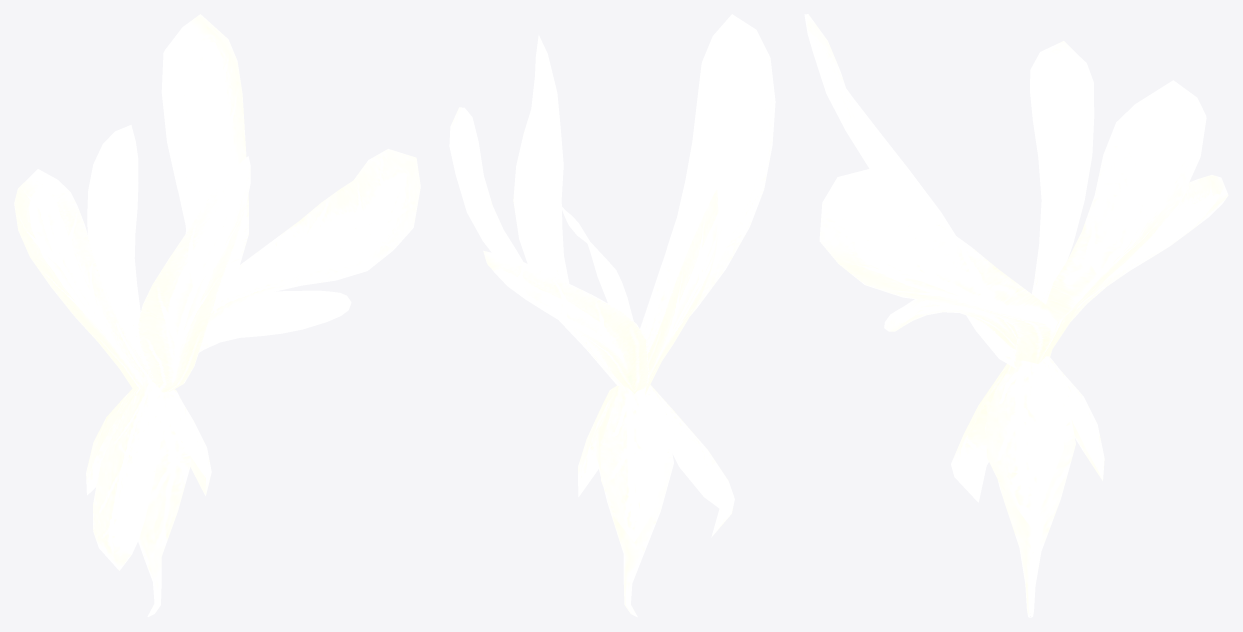
3 renders of one model, left to right at view 1: azimuth 30°, elevation 25°; view 2: azimuth 150°, elevation 25°; view 3: azimuth 270°, elevation 25°, orthographic. The views are drawn at different scales.
Parts seen in each view (by area): view 1: SM_Kwuarm_v2_LOD0; view 2: SM_Kwuarm_v2_LOD0; view 3: SM_Kwuarm_v2_LOD0.
Part boxes in pixels (x1=…): SM_Kwuarm_v2_LOD0: x1=14, y1=14, x2=420, y2=616; SM_Kwuarm_v2_LOD0: x1=449, y1=14, x2=775, y2=617; SM_Kwuarm_v2_LOD0: x1=804, y1=14, x2=1228, y2=617.
Bounding box in the file's own units: 0.2377 × 0.4177 × 0.2654.
1 material, 1 textured.
